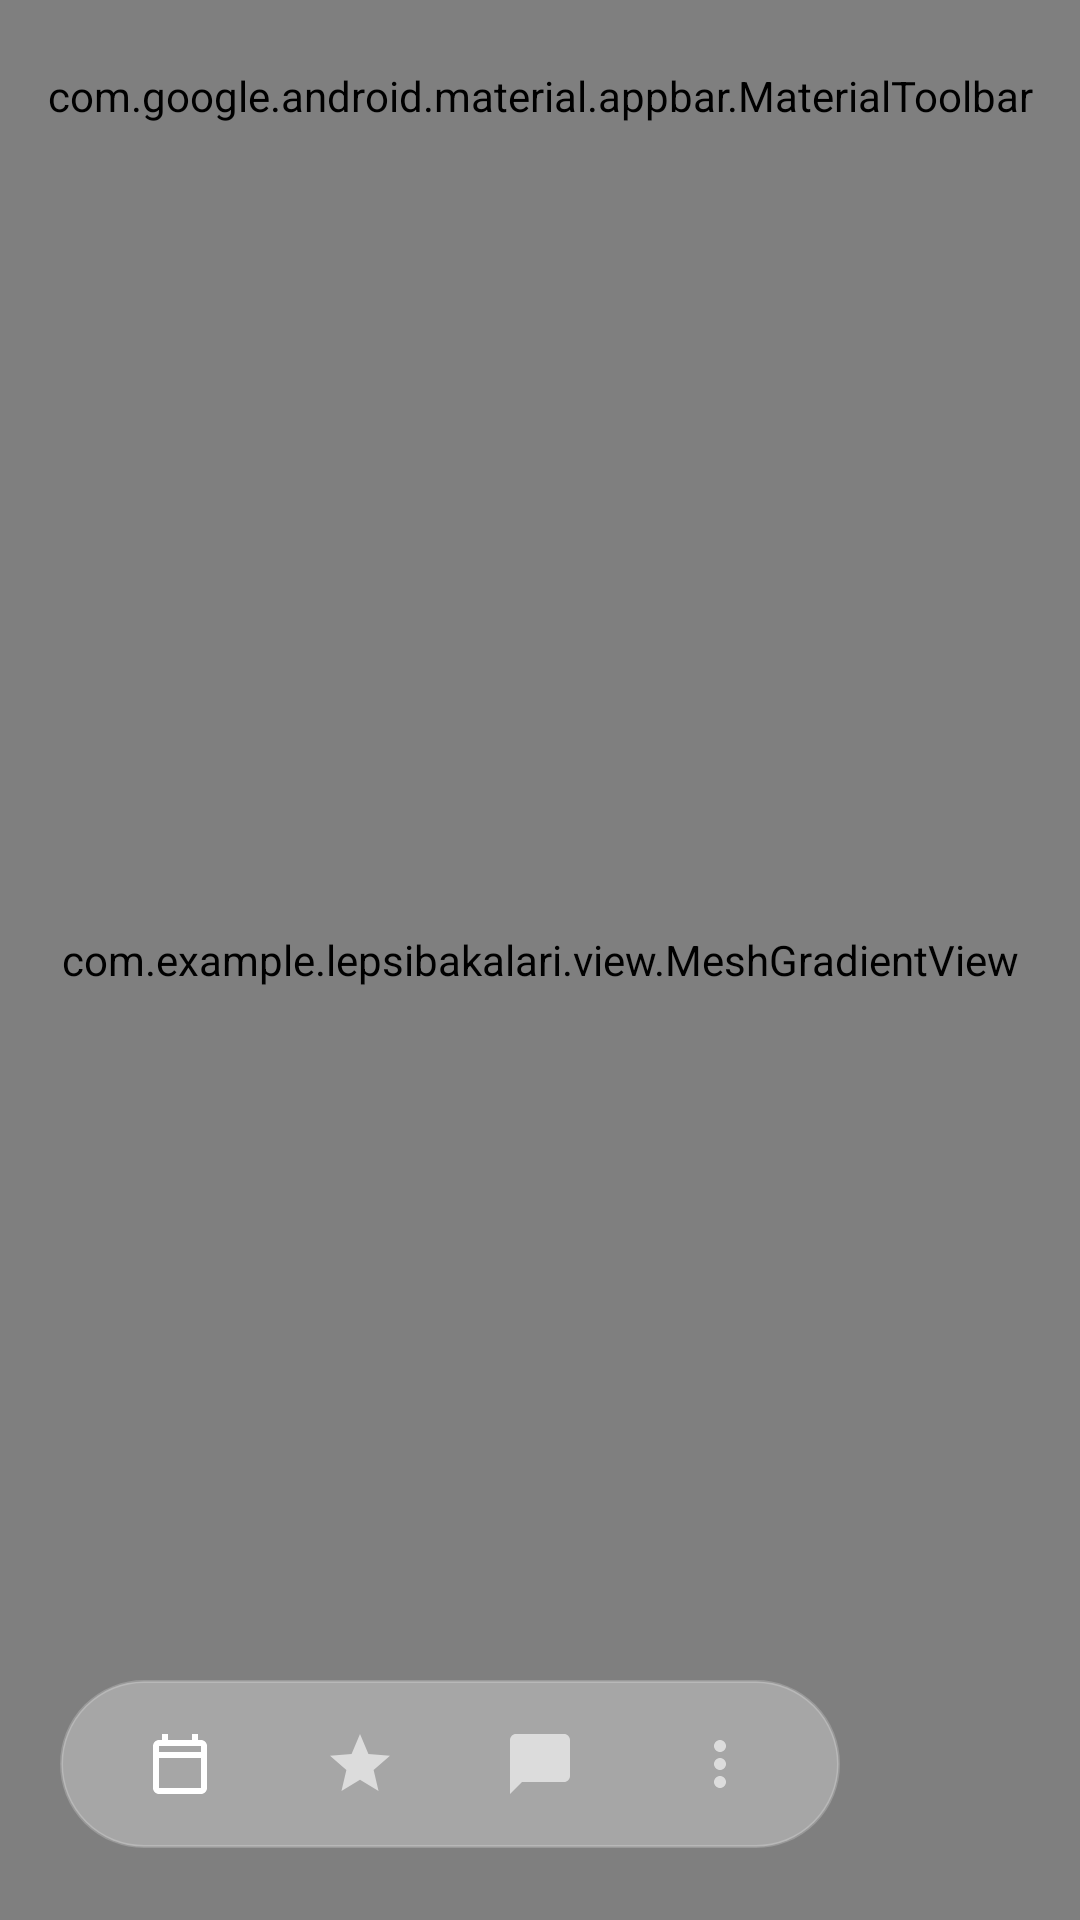

Where to tap for icons on this 1080x1920 app screen, as point (x, y):
Rozvrh: point (180, 1764)
Více: point (720, 1764)
Známky: point (360, 1762)
